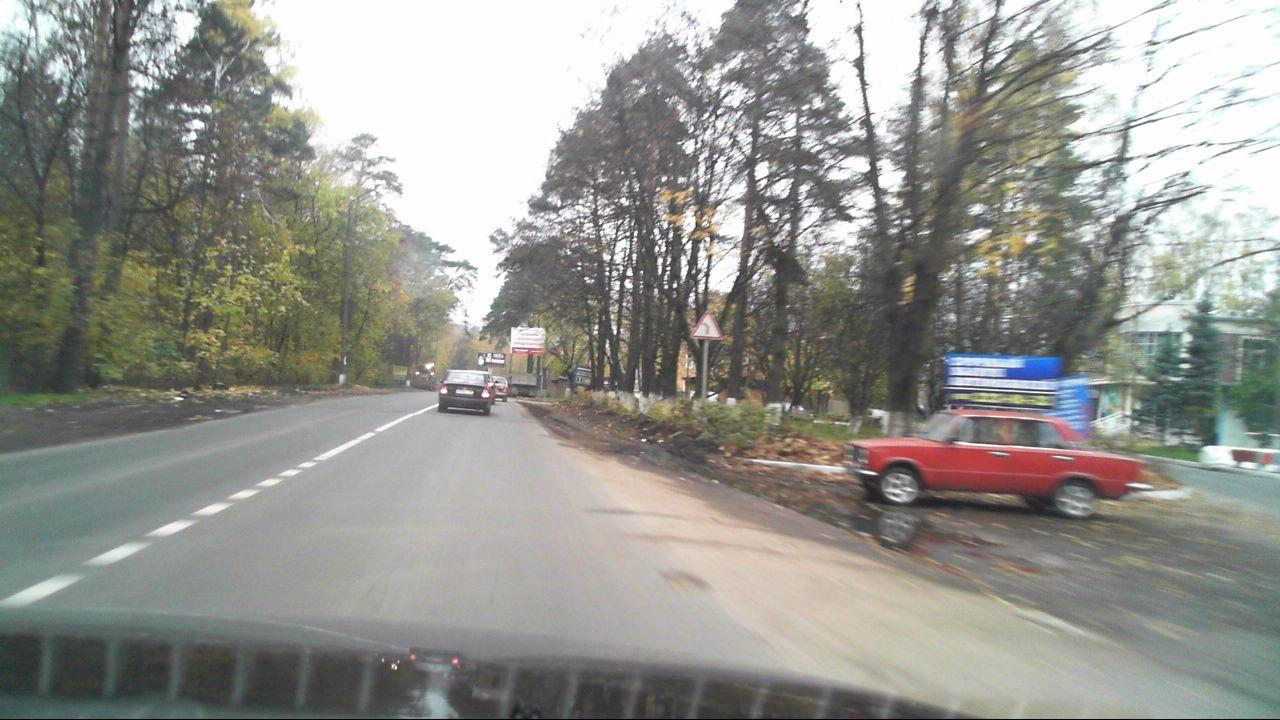1_11_2: (689, 310, 724, 339)
